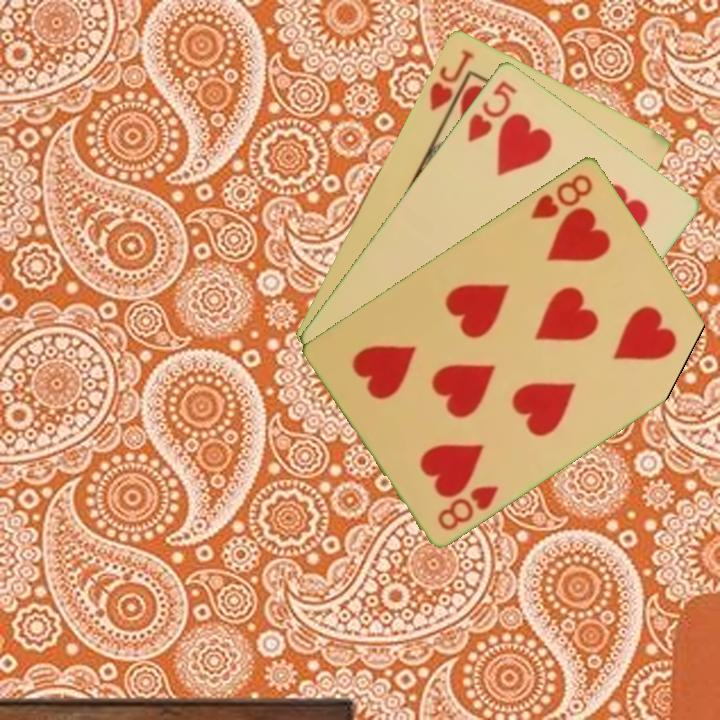5h: (463, 76, 519, 144)
8h: (527, 169, 596, 222), (433, 481, 502, 533)
Jh: (425, 45, 477, 113)
